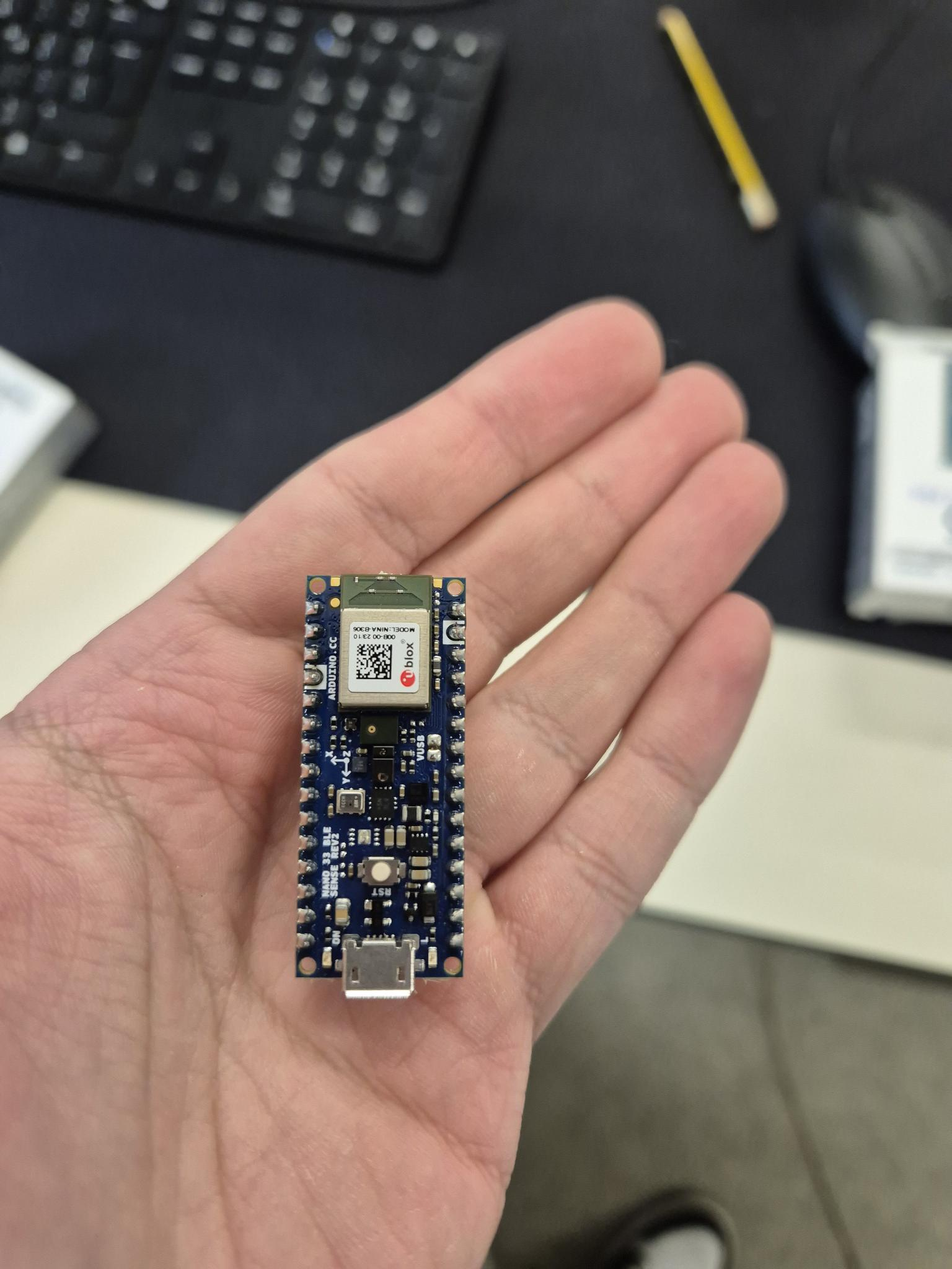arduino-nano-ble-sense: (297, 574, 466, 990)
